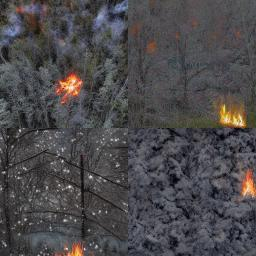Small fire: (215, 95, 249, 131), (58, 71, 94, 102), (45, 240, 98, 256), (236, 166, 256, 204)
